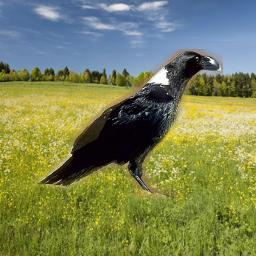Crow: (36, 49, 223, 199)
